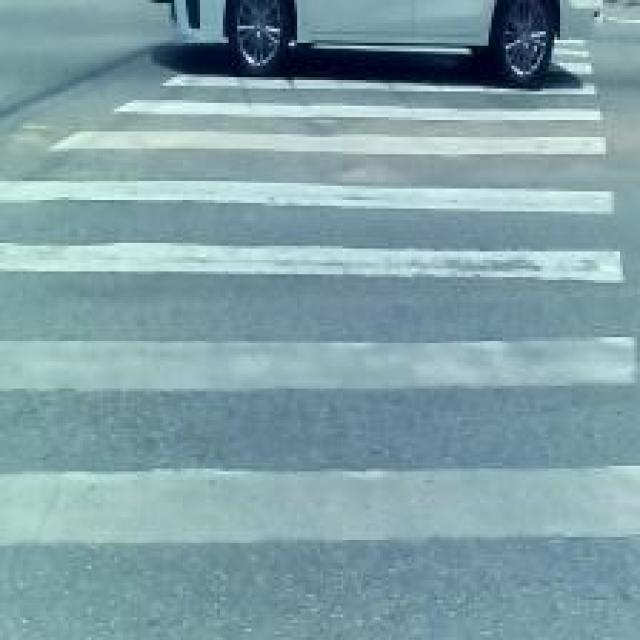crosswalk: (1, 22, 640, 640)
